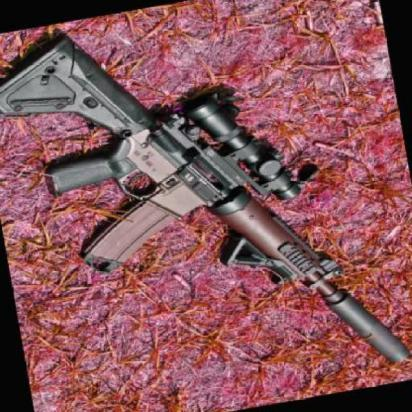Gun: (3, 24, 404, 374)
